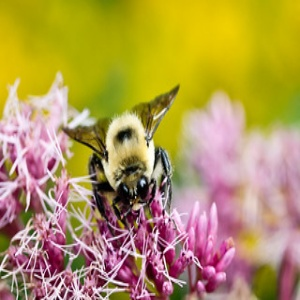bee: (60, 84, 187, 231)
